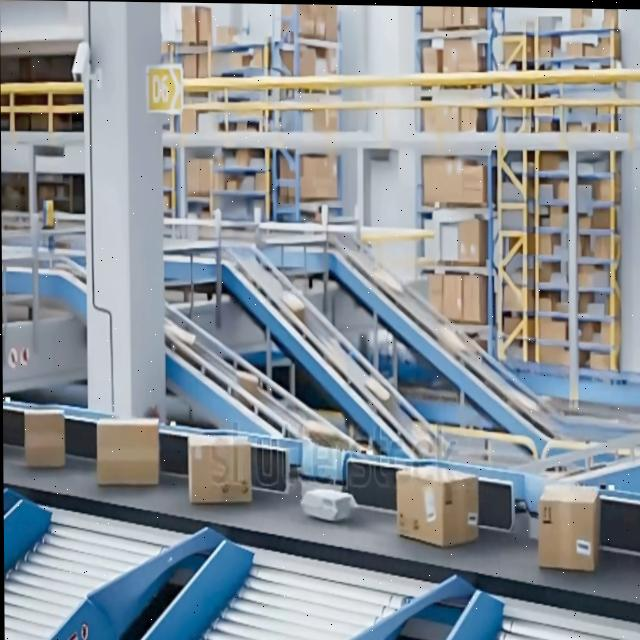product 1: (395, 463, 480, 549), (187, 432, 252, 505), (96, 417, 160, 486)
product 2: (300, 486, 356, 523)
